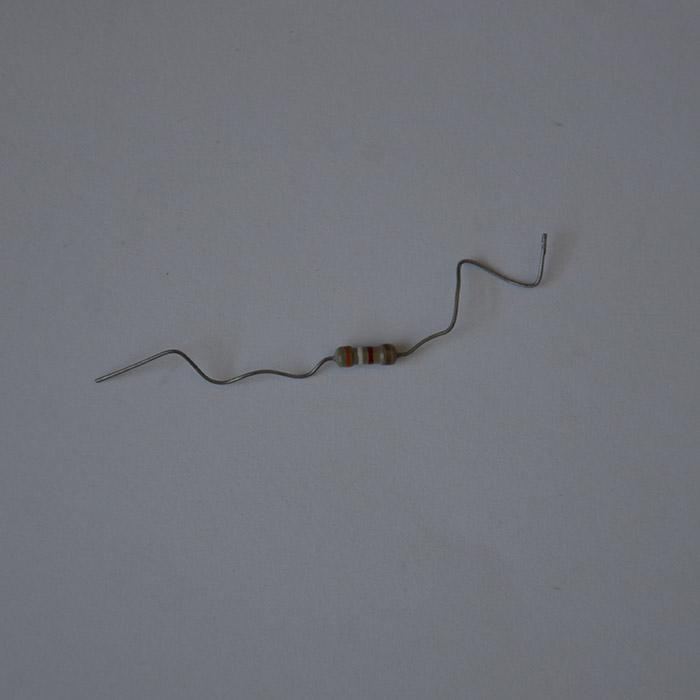resistor: (333, 343, 398, 367)
